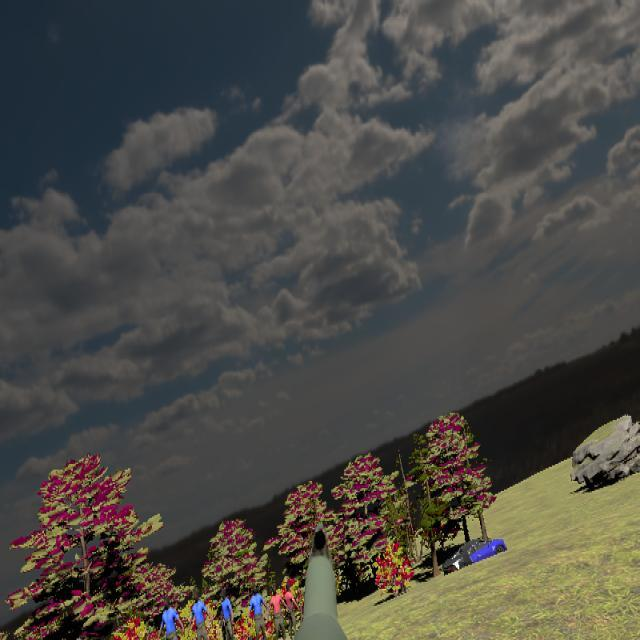Human: (249, 584, 270, 640), (189, 591, 212, 640), (159, 597, 185, 640), (269, 584, 288, 639), (219, 587, 234, 640)
car: (444, 535, 508, 581)
